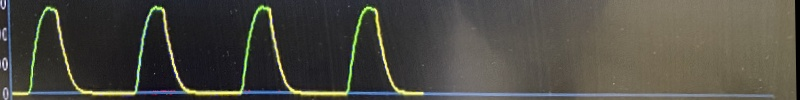normal_volume: (6, 1, 438, 100)
